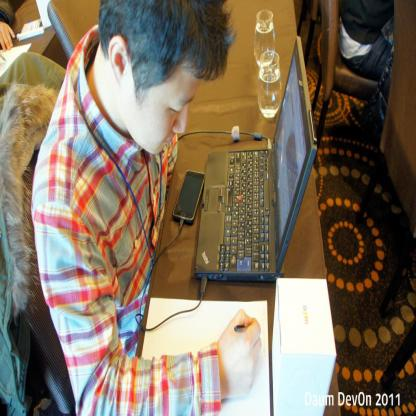board: (194, 33, 318, 282)
